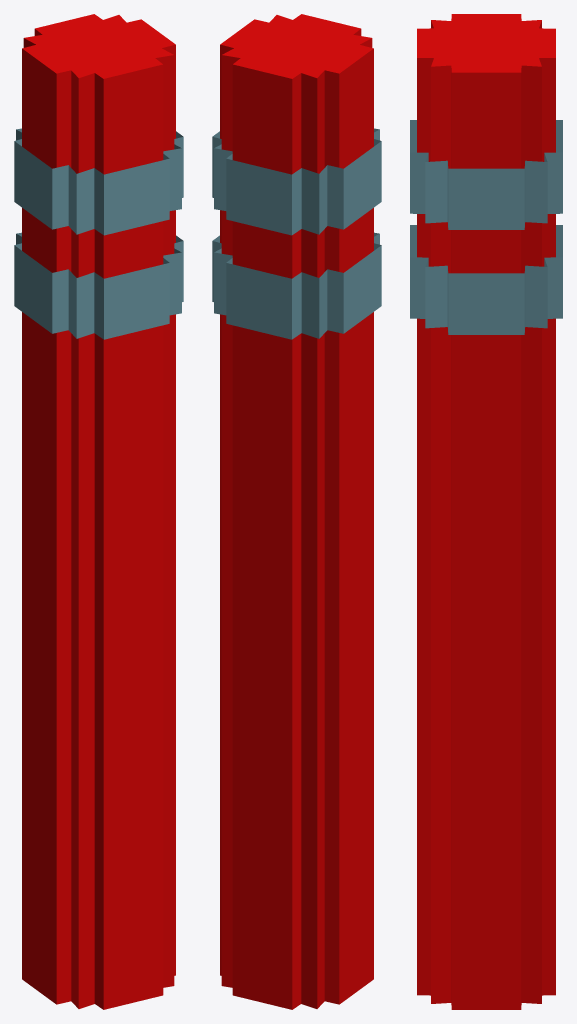
File: Columna pasarela.fbx
3 views of the same model, side by side, from view 1: azimuth 30°, elevation 25°; view 2: azimuth 150°, elevation 25°; view 3: azimuth 270°, elevation 25° (orthographic).
Visible parts, largest first — view 1: polySurface84; view 2: polySurface84; view 3: polySurface84.
Part boxes in pixels (x1=…): polySurface84: x1=14, y1=14, x2=183, y2=1009; polySurface84: x1=212, y1=14, x2=381, y2=1009; polySurface84: x1=410, y1=14, x2=562, y2=1009.
Size of the model in its own units: 0.9195 by 6.23 by 0.9195.
